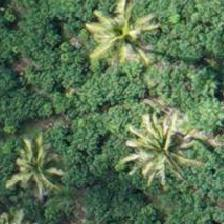coconut_tree: (117, 104, 207, 194), (80, 0, 170, 78), (0, 124, 73, 214)
